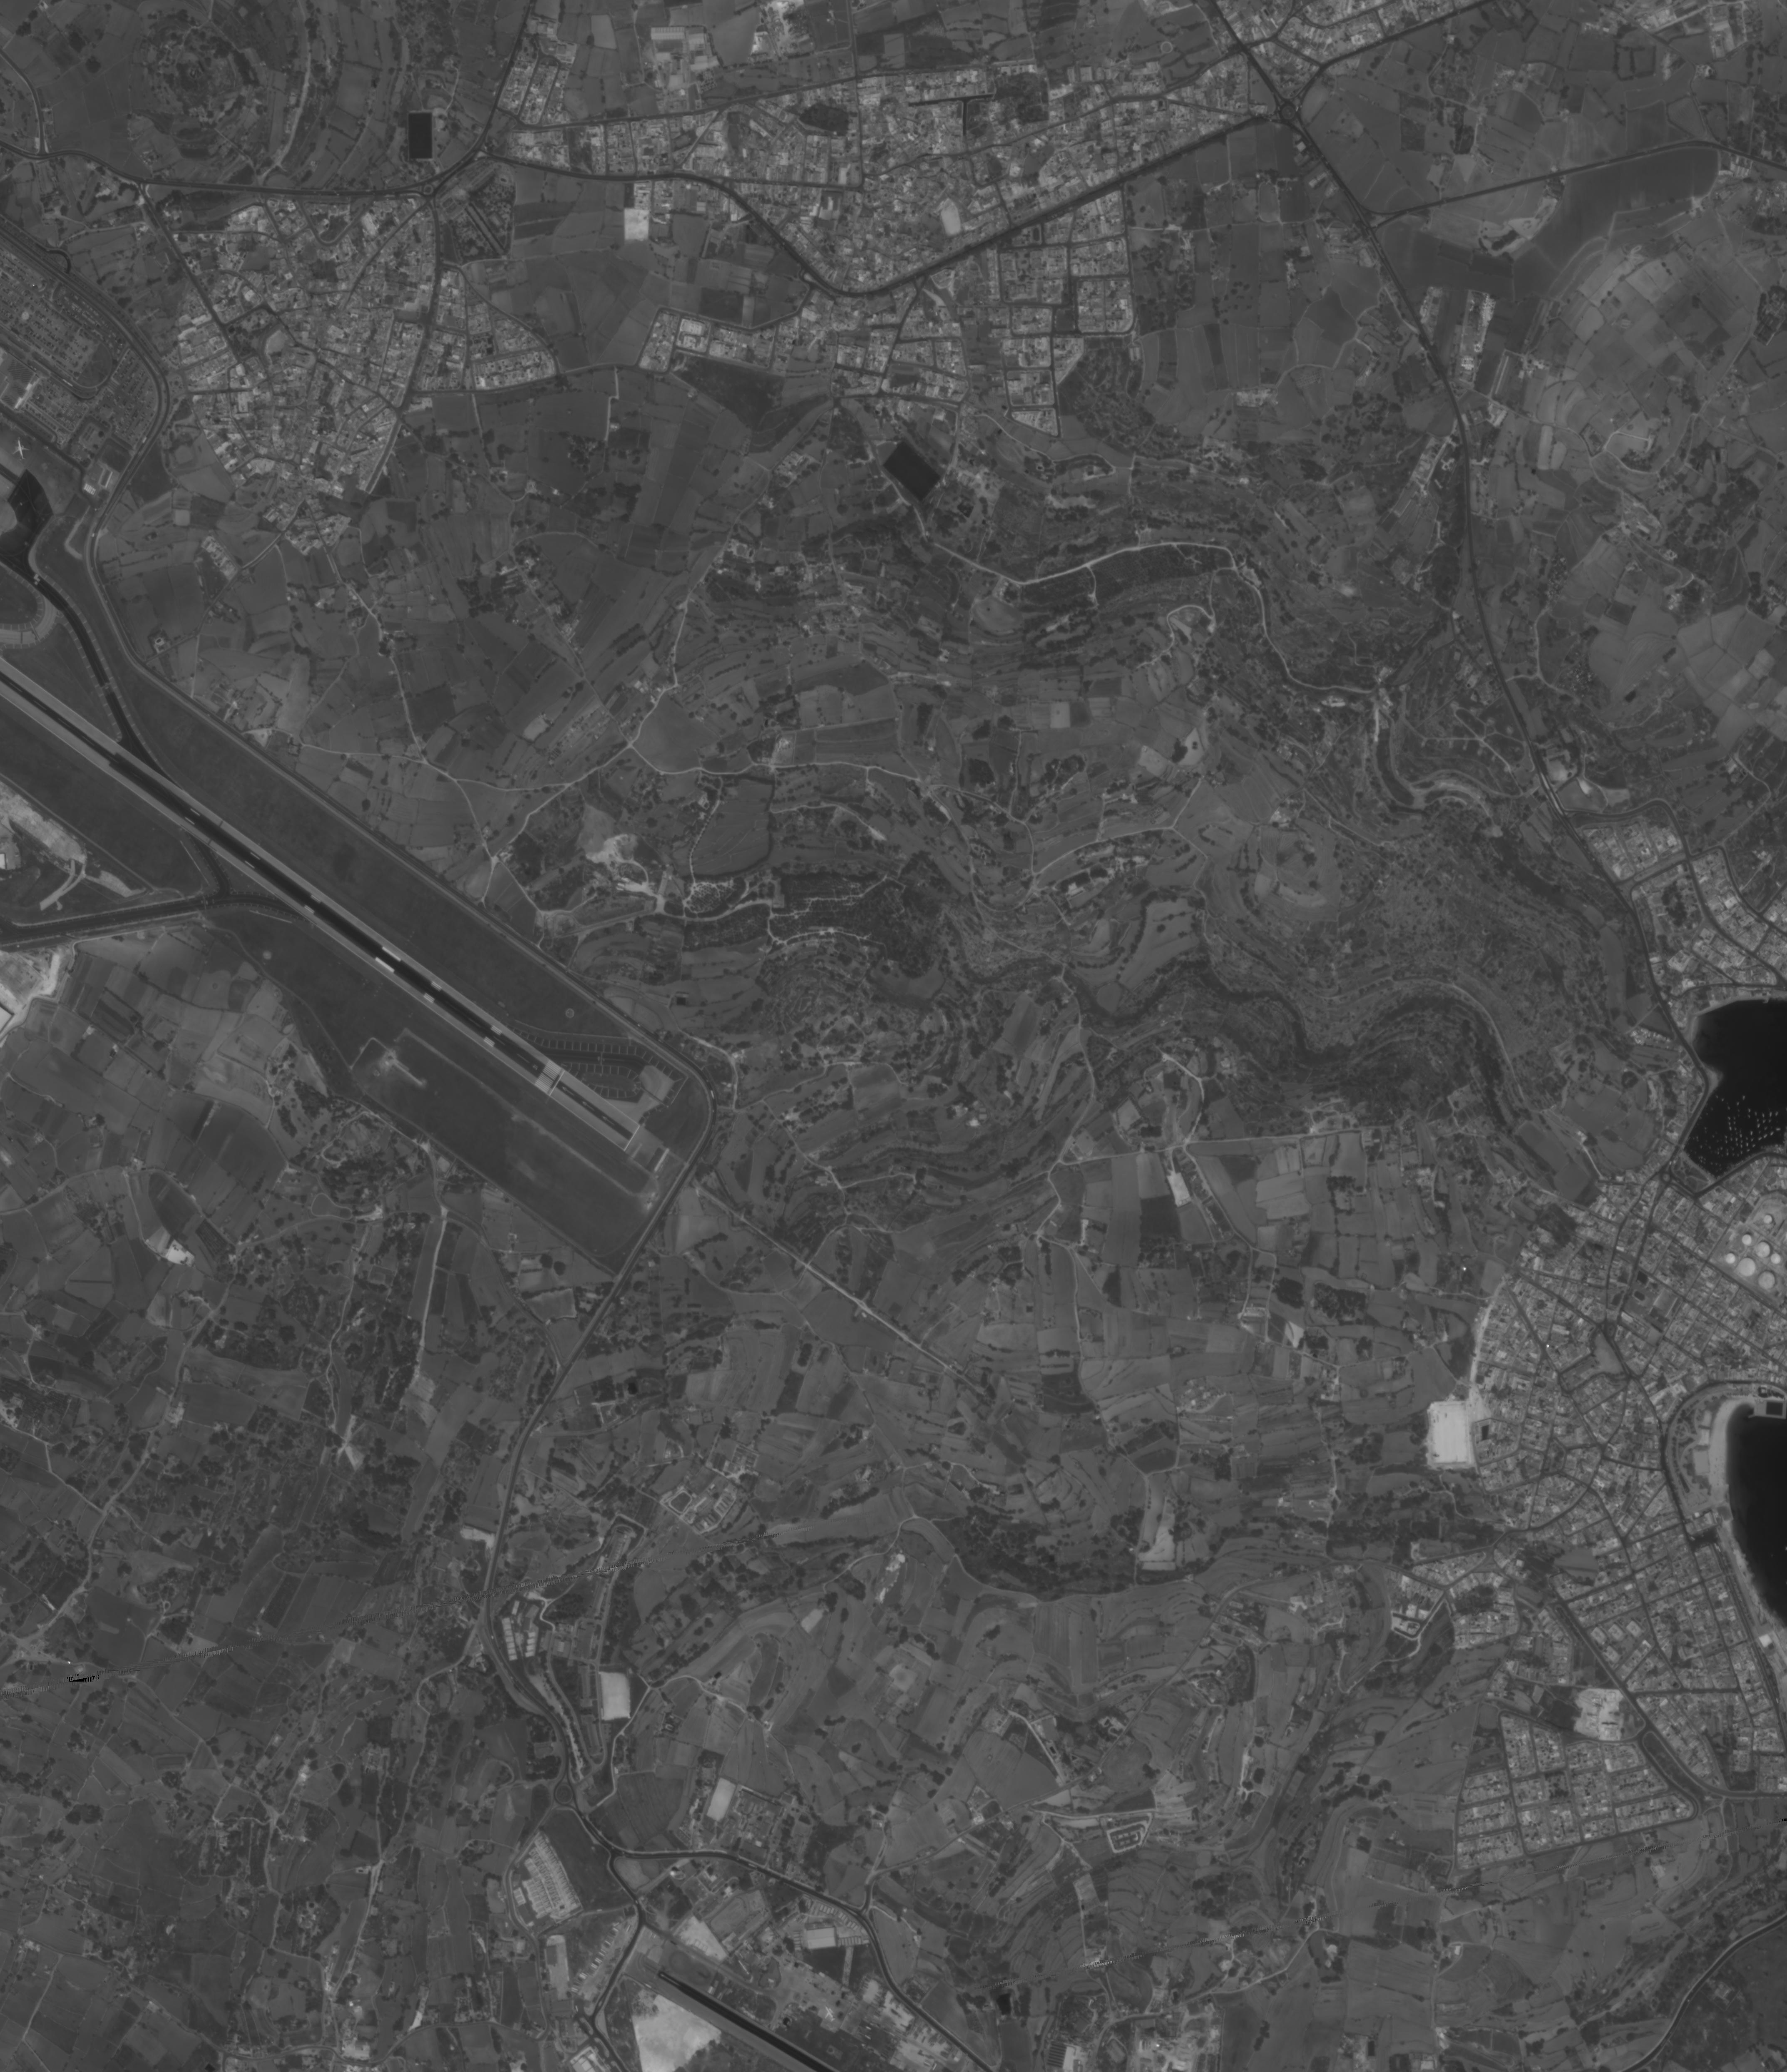plane: (7, 435, 33, 465), (819, 2002, 842, 2026)
